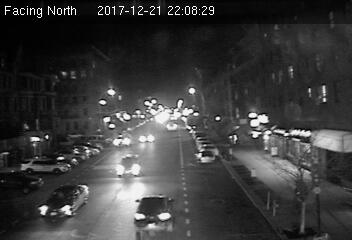car: (38, 185, 89, 218), (133, 192, 176, 229), (116, 154, 144, 178), (196, 151, 216, 165), (113, 134, 132, 148), (137, 134, 158, 143)
